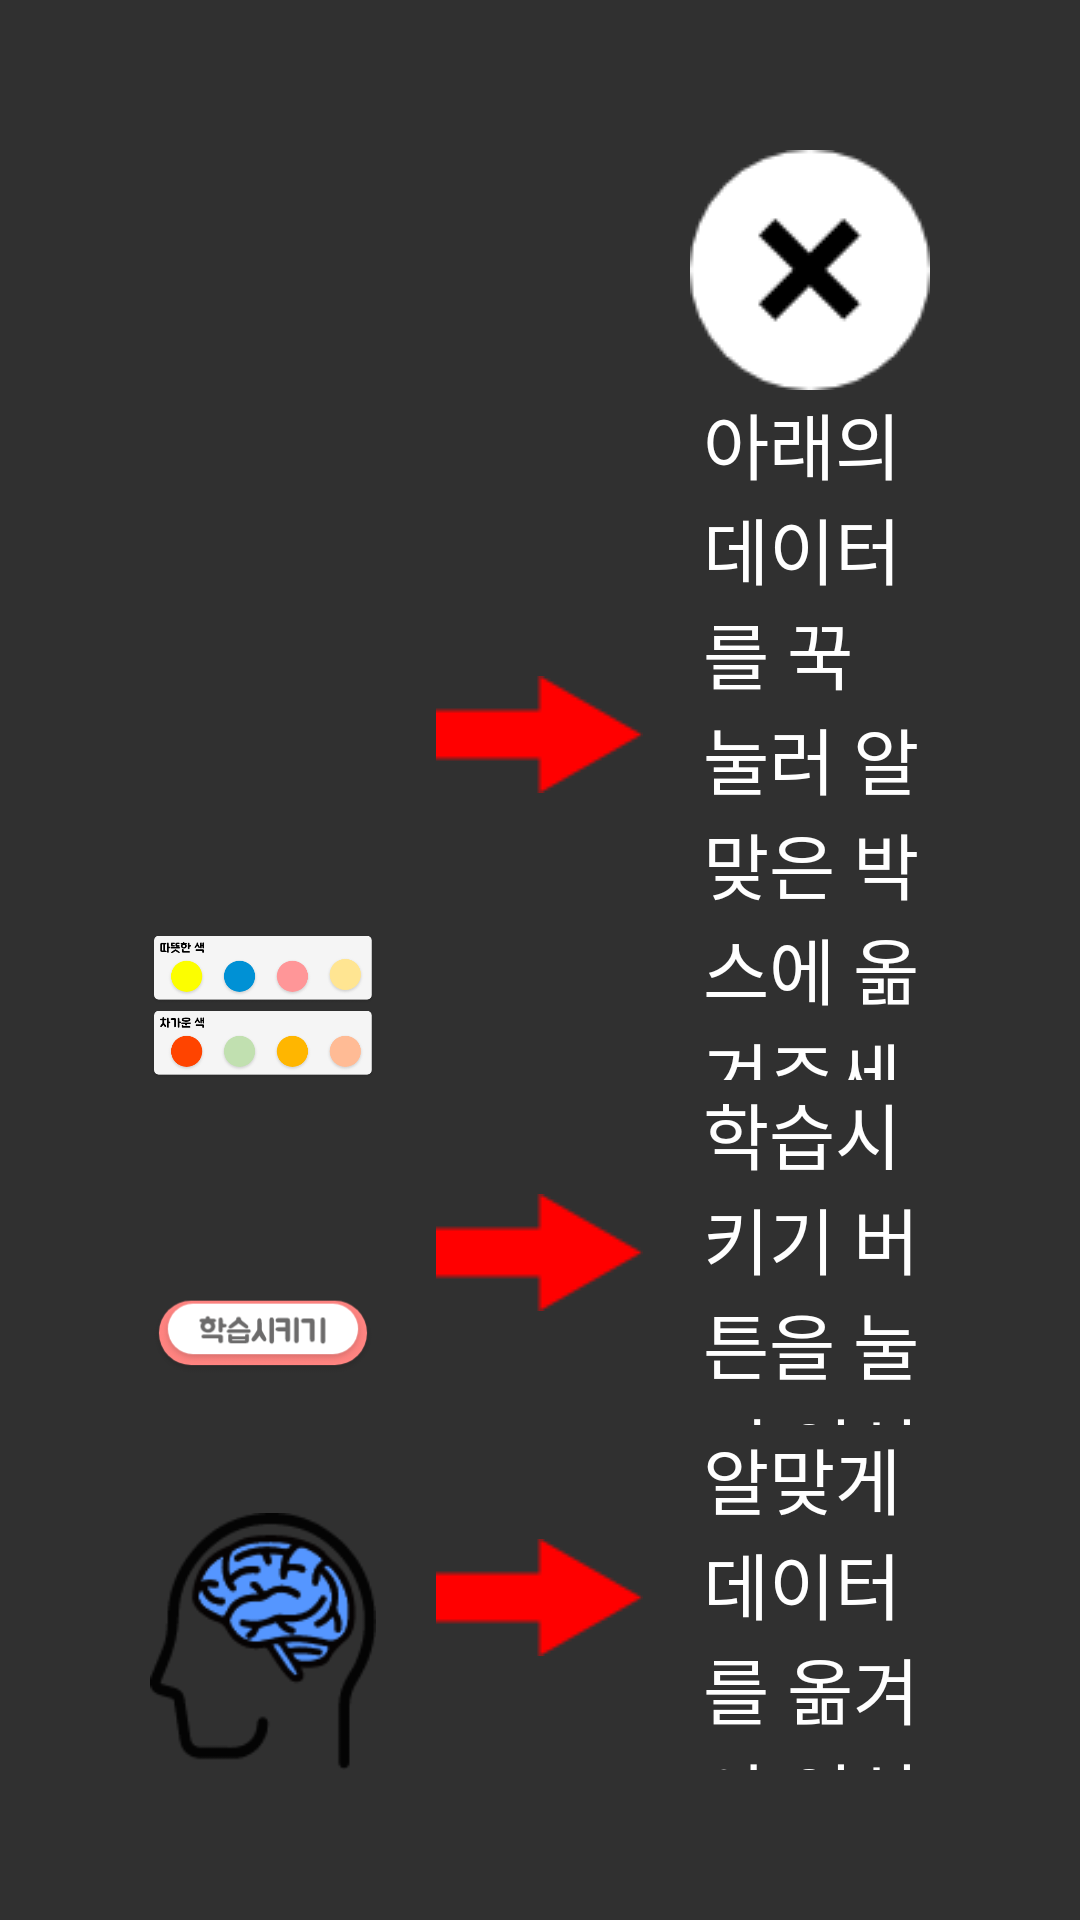

Point at icon controls on the screen. Image size 1080x1920, points as (x=x, y=y).
moral dialog cl: (x=810, y=270)
